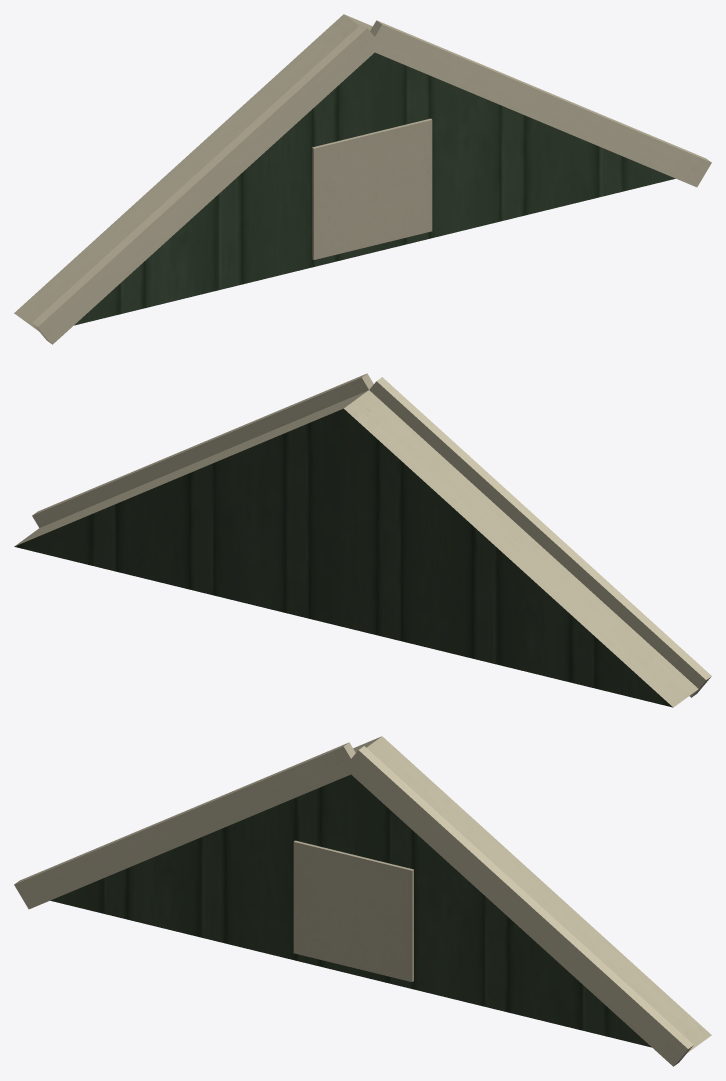
The model's file is house_04_gable.glb.
3 views of the same model, one above another, from view 1: azimuth 30°, elevation 25°; view 2: azimuth 150°, elevation 25°; view 3: azimuth 330°, elevation 25° (orthographic).
Visible parts, largest first — view 1: outdoor_house_04_gable; view 2: outdoor_house_04_gable; view 3: outdoor_house_04_gable.
Boxes of the visible parts, bbox=[...] form: outdoor_house_04_gable: bbox=[14, 14, 711, 344]; outdoor_house_04_gable: bbox=[14, 373, 711, 707]; outdoor_house_04_gable: bbox=[14, 736, 711, 1066].
Size of the model in its own units: 3 by 1.02 by 0.24.
1 material, 1 textured.
